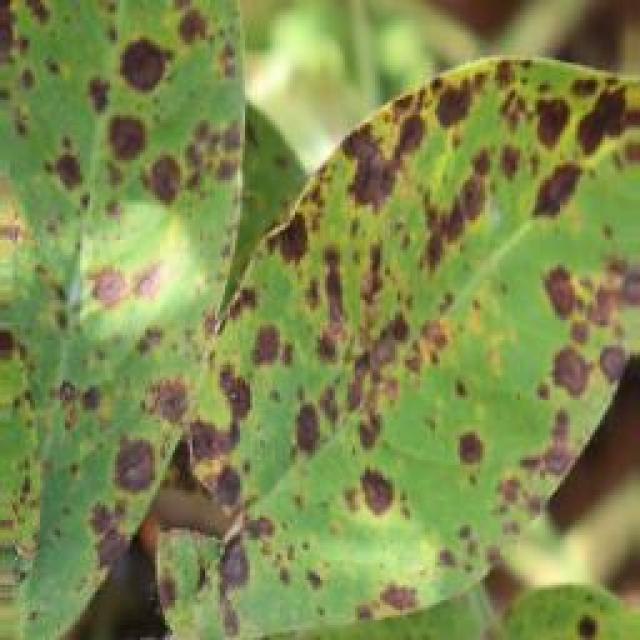Yellowish: (0, 0, 640, 635)
